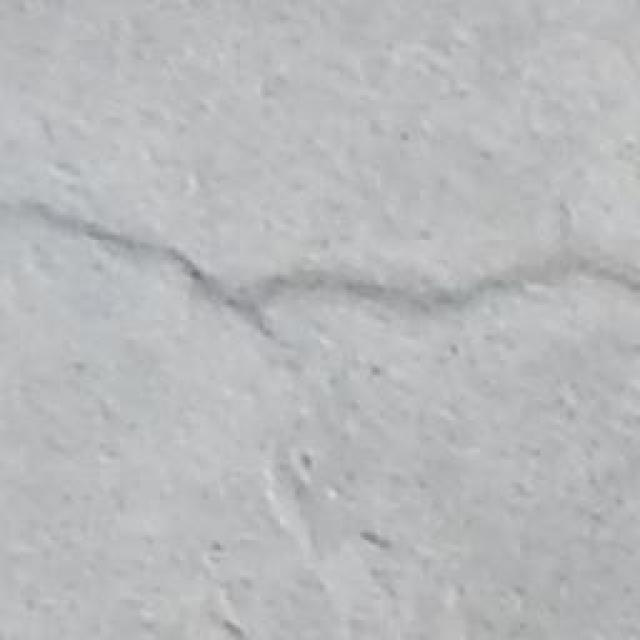concrete-crack: (11, 202, 639, 351)
